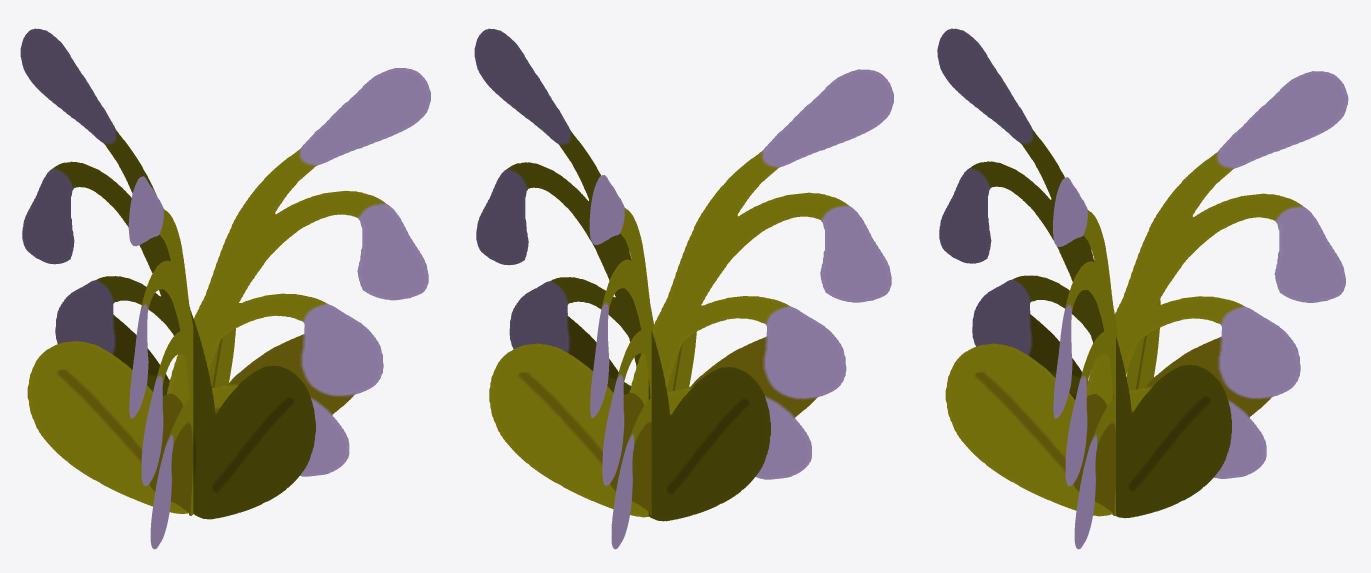
Rendered from ValleyLily.fbx.
3 views of the same model, side by side, from view 1: azimuth 30°, elevation 25°; view 2: azimuth 150°, elevation 25°; view 3: azimuth 270°, elevation 25° (orthographic).
Parts seen in each view (by area): view 1: valleyLily3, valleyLily2, valleyLily1; view 2: valleyLily1, valleyLily3, valleyLily2; view 3: valleyLily2, valleyLily1, valleyLily3.
Part boxes in pixels (x1,y1,x2,y2): valleyLily3: (27,68,430,513); valleyLily2: (20,28,315,519); valleyLily1: (128,176,235,549); valleyLily1: (489,69,893,517); valleyLily3: (474,28,770,521); valleyLily2: (589,175,696,549); valleyLily2: (945,71,1348,516); valleyLily1: (937,28,1231,518); valleyLily3: (1053,177,1160,549).
Bounding box in the file's own units: 0.9095 × 1 × 0.9006.
